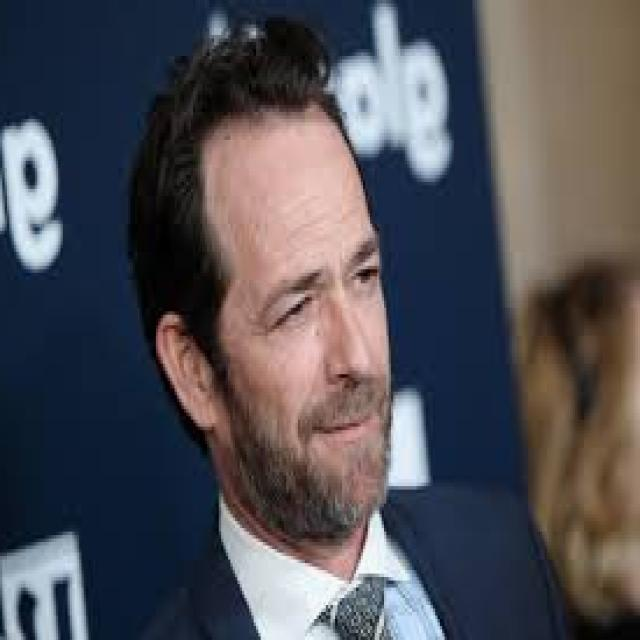normal_face: (200, 80, 393, 560)
